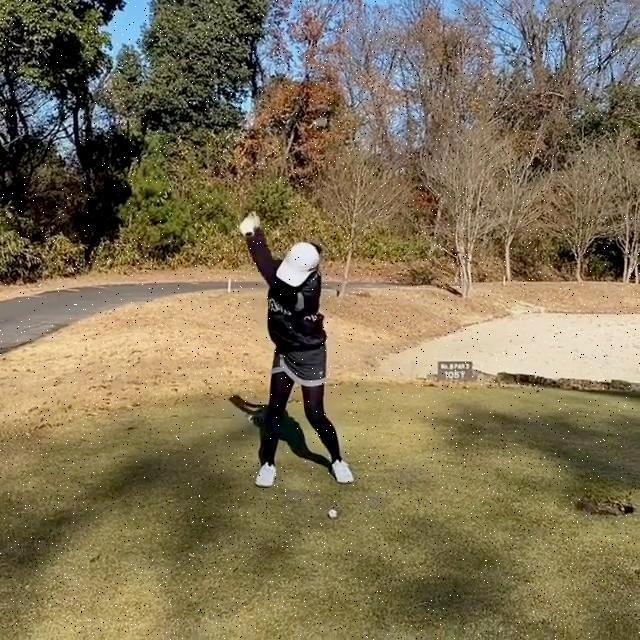GolfBall: (328, 509, 338, 519)
